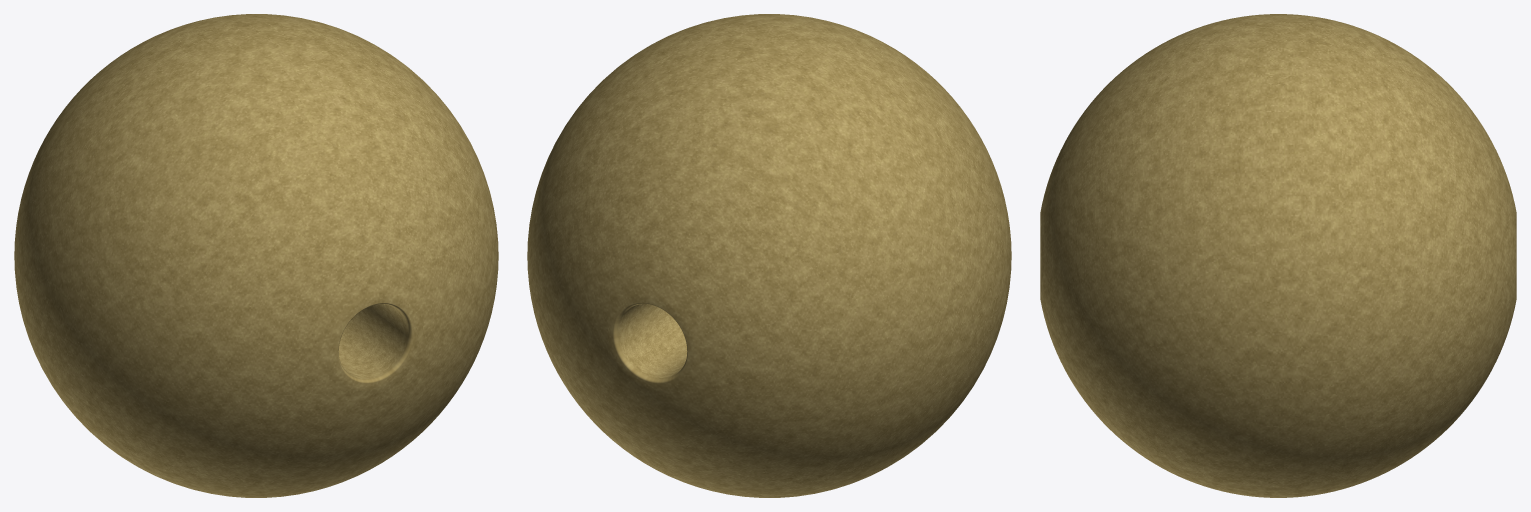
Rendered from pyrite-6mm.glb.
3 views of the same model, side by side, from view 1: azimuth 30°, elevation 25°; view 2: azimuth 150°, elevation 25°; view 3: azimuth 270°, elevation 25° (orthographic).
Visible parts, largest first — view 1: pyrite.001; view 2: pyrite.001; view 3: pyrite.001.
Boxes of the visible parts, x1=… form: pyrite.001: x1=14, y1=14, x2=498, y2=497; pyrite.001: x1=527, y1=14, x2=1011, y2=497; pyrite.001: x1=1040, y1=14, x2=1516, y2=497.
Bounding box in the file's own units: 0.006 × 0.006 × 0.0059.
1 material, 1 textured.
